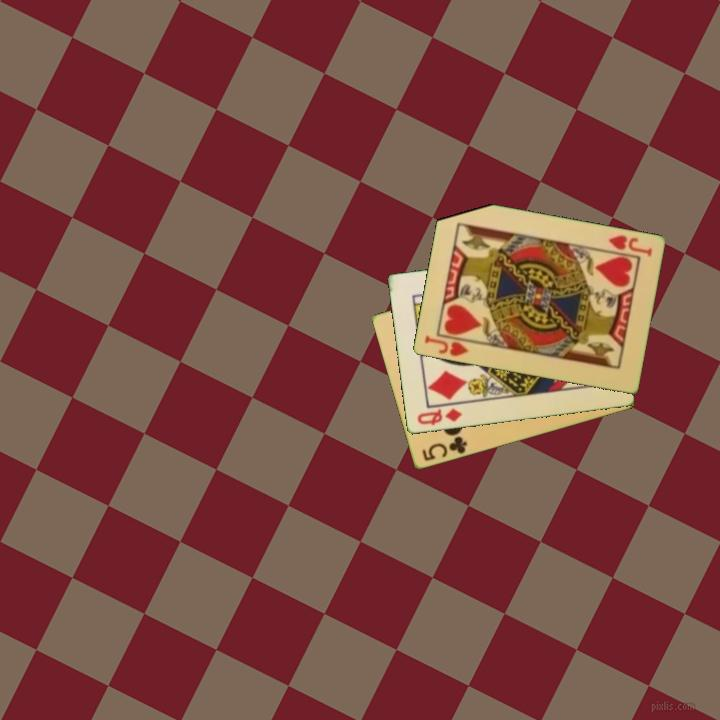5c: (418, 433, 470, 464)
Jh: (421, 332, 471, 360), (605, 232, 655, 260)
Qd: (413, 405, 465, 428)
